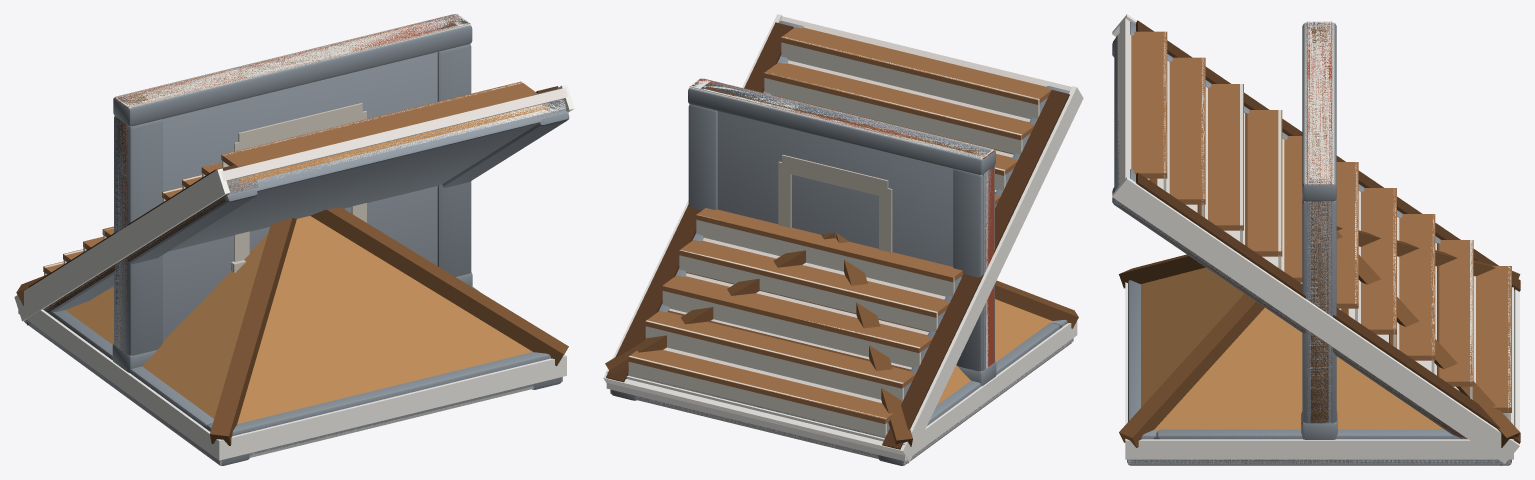
The model's file is pieces.glb.
3 renders of one model, left to right at view 1: azimuth 30°, elevation 25°; view 2: azimuth 150°, elevation 25°; view 3: azimuth 270°, elevation 25°, orthographic. The views are drawn at different scales.
Parts seen in each view (by area): view 1: Cone_wood, Wall_stone, Ramp_stone, Roof, RoofCone, Stairs, Cone_stone, BrickWall, HouseWall, Ramp_wood, BrickWallWindow, BrickWallDoor (+4 smaller); view 2: Stairs, Wall_stone, Roof, Cone_wood, RoofCone, Cone_stone, BrickWallWindow, BrickWall, BrickWallDoor, MetalWall, Ramp_stone, Ramp_wood (+5 smaller); view 3: Stairs, Cone_wood, Roof, RoofCone, Wall_stone, Cone_stone, HouseWall, Wall_wood, Ramp_stone, BrickWall, Floor_stone, ConcreteFloor (+7 smaller).
Part boxes in pixels (<box>): Cone_wood: <box>16,207,568,445</box>; Wall_stone: <box>112,14,472,372</box>; Ramp_stone: <box>44,89,569,311</box>; Roof: <box>14,84,574,321</box>; RoofCone: <box>18,309,566,460</box>; Stairs: <box>27,81,558,325</box>; Cone_stone: <box>45,286,550,462</box>; BrickWall: <box>114,14,470,345</box>; HouseWall: <box>115,14,469,349</box>; Ramp_wood: <box>43,100,563,309</box>; BrickWallWindow: <box>115,14,470,272</box>; BrickWallDoor: <box>115,20,442,342</box>; Stairs: <box>606,22,1069,463</box>; Wall_stone: <box>688,78,996,386</box>; Roof: <box>603,14,1083,462</box>; Cone_wood: <box>605,232,1078,446</box>; RoofCone: <box>606,321,1077,461</box>; Cone_stone: <box>610,320,1073,463</box>; BrickWallWindow: <box>698,79,994,368</box>; BrickWall: <box>689,78,994,369</box>; BrickWallDoor: <box>700,79,993,366</box>; MetalWall: <box>692,81,990,368</box>; Ramp_stone: <box>659,20,1069,432</box>; Ramp_wood: <box>667,94,1013,371</box>; Stairs: <box>1118,20,1520,465</box>; Cone_wood: <box>1119,226,1520,447</box>; Roof: <box>1112,14,1519,463</box>; RoofCone: <box>1125,282,1513,459</box>; Wall_stone: <box>1301,23,1337,439</box>; Cone_stone: <box>1128,280,1510,462</box>; HouseWall: <box>1307,21,1331,422</box>; Wall_wood: <box>1311,23,1328,423</box>; Ramp_stone: <box>1112,21,1467,438</box>; BrickWall: <box>1304,22,1334,423</box>; Floor_stone: <box>1127,459,1511,465</box>; ConcreteFloor: <box>1128,459,1510,464</box>.
Bounding box in the file's own units: 4.19 × 3.34 × 4.27.
